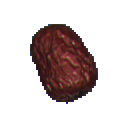gd: (16, 15, 111, 112)
